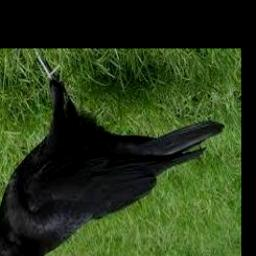Crow: (0, 77, 225, 256)
